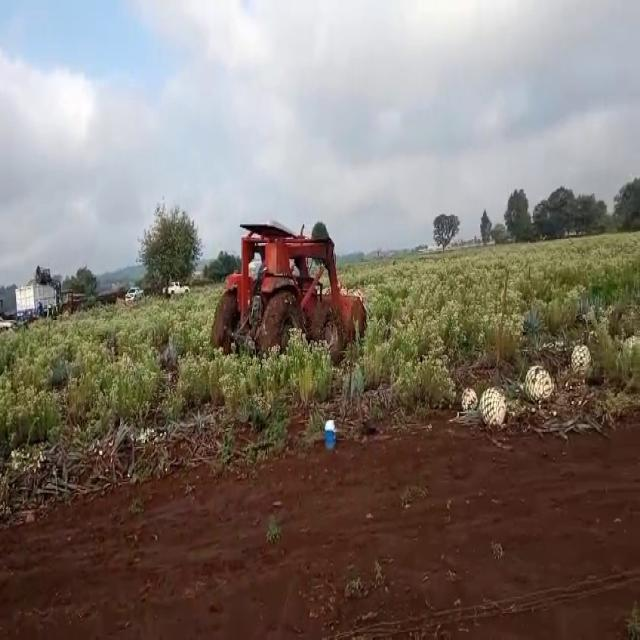agave: (522, 357, 552, 410), (480, 386, 509, 434), (568, 343, 593, 378), (459, 384, 479, 419)
